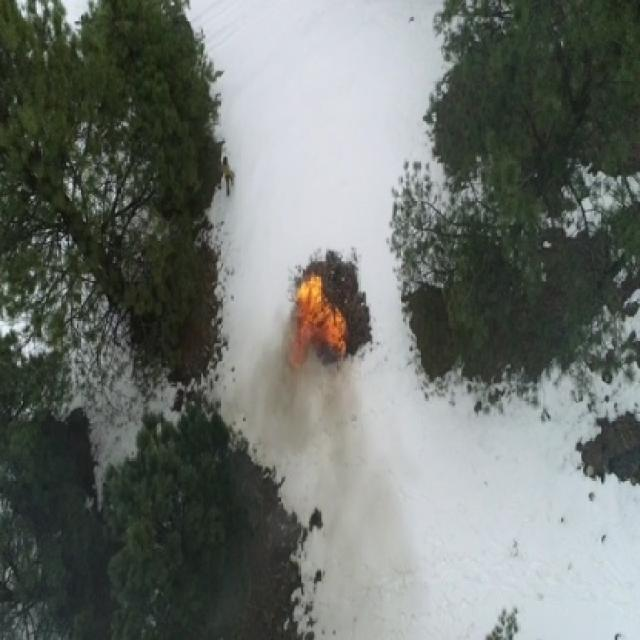Fire: (315, 301, 351, 351), (299, 273, 322, 340), (292, 341, 303, 367)
